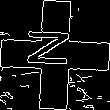N_E: (29, 34, 81, 76)
